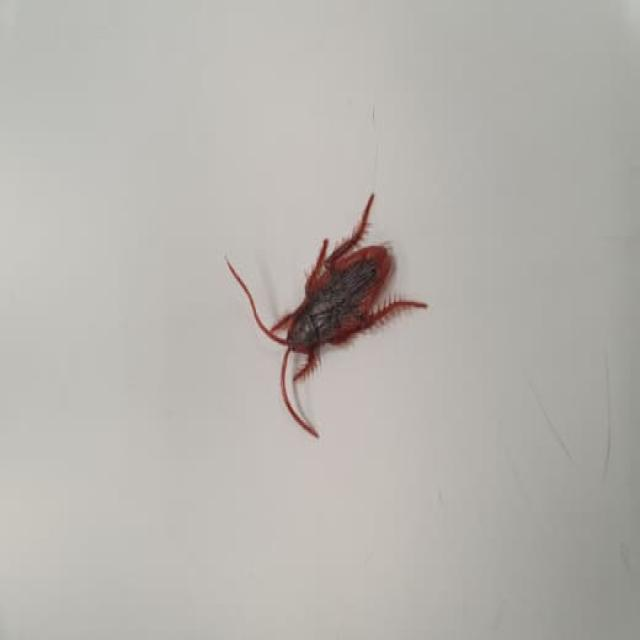Cockroach: (228, 207, 421, 407)
